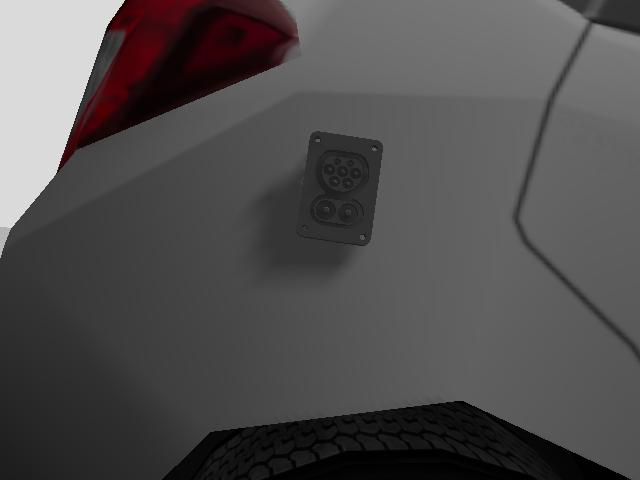EV-socket: (296, 131, 381, 244)
